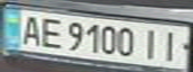0: (115, 25, 139, 57), (100, 24, 118, 56)
1: (81, 20, 103, 54)
9: (63, 19, 87, 52)
A: (15, 12, 45, 46)
E: (36, 16, 63, 50)
I: (157, 28, 184, 62), (139, 26, 163, 61)
